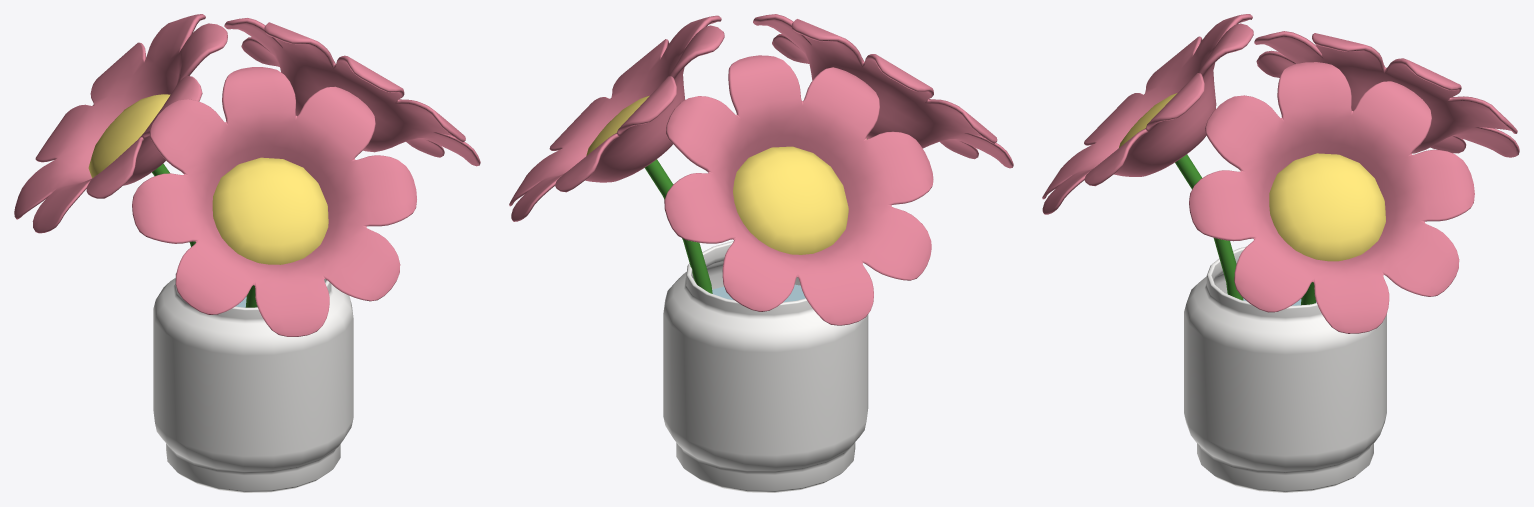
File: Flower_13.glb
The picture shows the model from 3 angles, left to right: view 1: azimuth 30°, elevation 25°; view 2: azimuth 150°, elevation 25°; view 3: azimuth 270°, elevation 25°; orthographic projection. The views are drawn at different scales.
Visible parts, largest first — view 1: Vase_with_Flowers_6; view 2: Vase_with_Flowers_6; view 3: Vase_with_Flowers_6.
Part boxes in pixels (<box>): Vase_with_Flowers_6: <box>14,14,480,492</box>; Vase_with_Flowers_6: <box>509,14,1013,492</box>; Vase_with_Flowers_6: <box>1042,14,1519,492</box>.
Size of the model in its own units: 0.5432 by 0.5334 by 0.5596.
2 materials, 2 textured.
